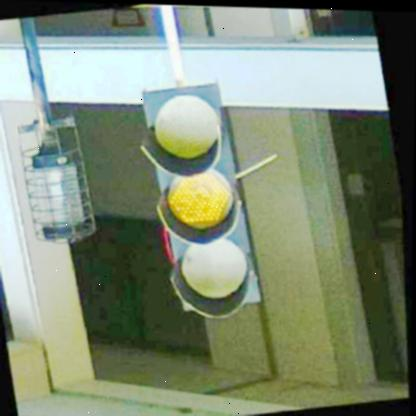Traffic Light -Yellow-: (135, 77, 266, 325)
